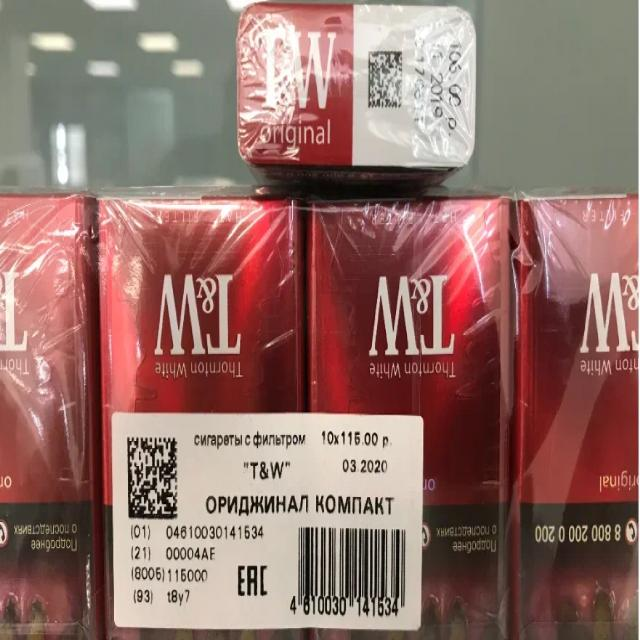datamatrix: (126, 434, 182, 523), (366, 48, 405, 111)
